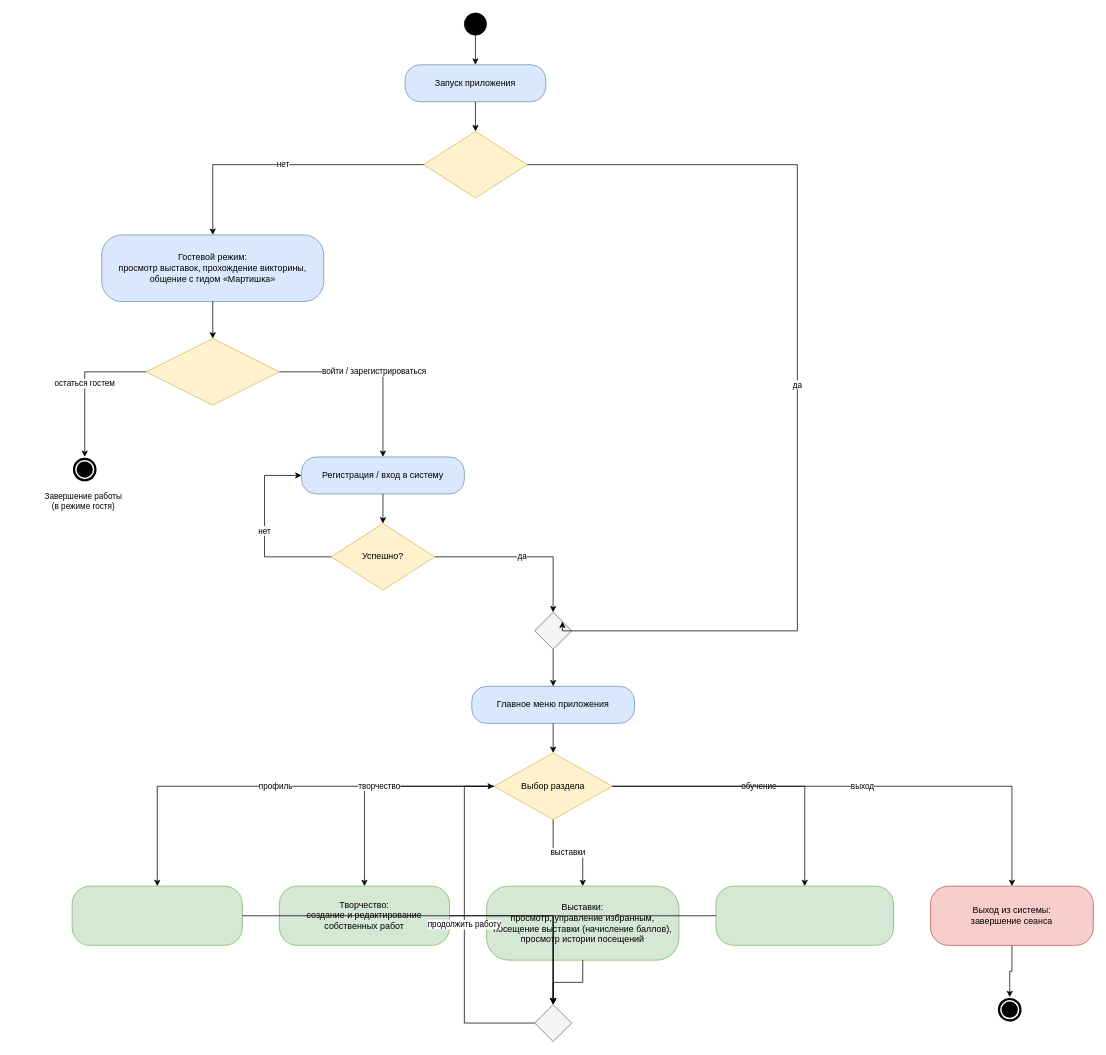
Some shapes in this 1106 by 1055 pixel diagram are drawn without their labels. The shapes that lost their labels are listed below. From the top down, each one's box as (x1, y1, x2, y2) in pixels, then its label:
(423, 131, 527, 198): Пользователь авторизован?
(145, 338, 279, 405): Войти или зарегистрироваться?
(71, 885, 242, 945): Профиль: просмотр и редактирование профиля пользователя
(715, 885, 894, 945): Обучение: прохождение викторины, общение с гидом «Мартишка»
